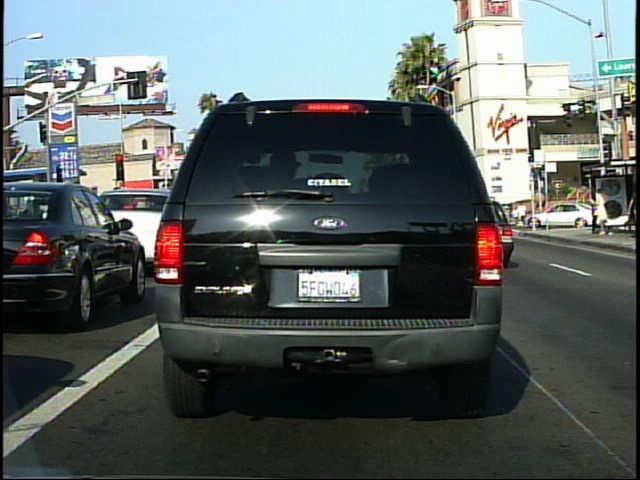person: (592, 183, 611, 240), (517, 199, 530, 227)
